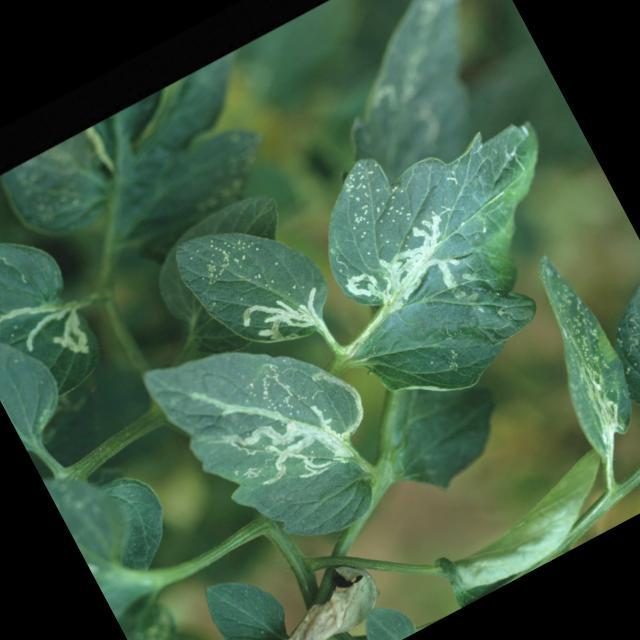Tomato target spot leaf: (277, 79, 634, 433), (133, 287, 414, 585), (164, 187, 347, 378), (497, 242, 640, 471), (0, 209, 132, 454)
